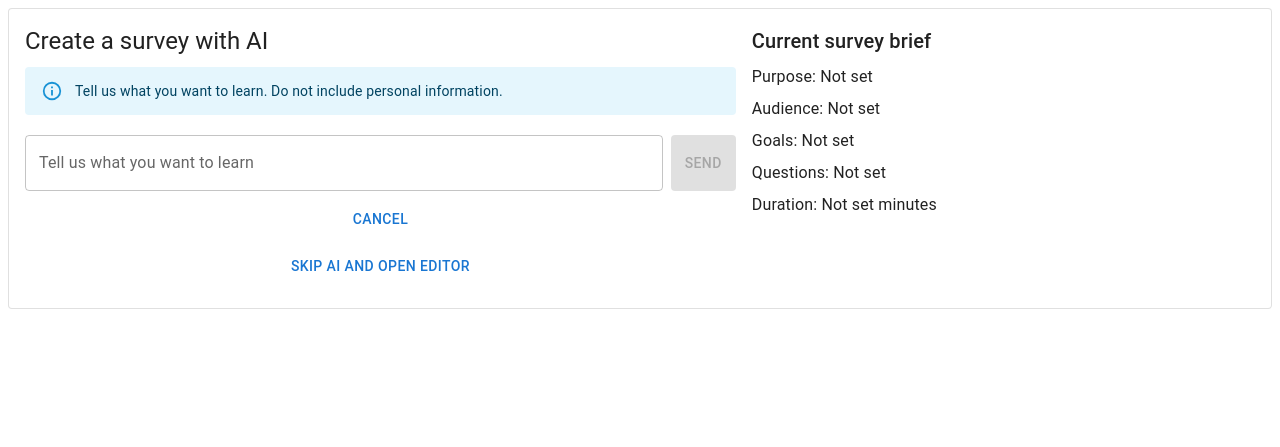
Test case: MuiFormCreationAssistant › shows conversation, quick replies, and the structured brief
Type "Learn more" into the field labelled "Tell us what you want to learn" at (344, 163), box [25,135,663,191]
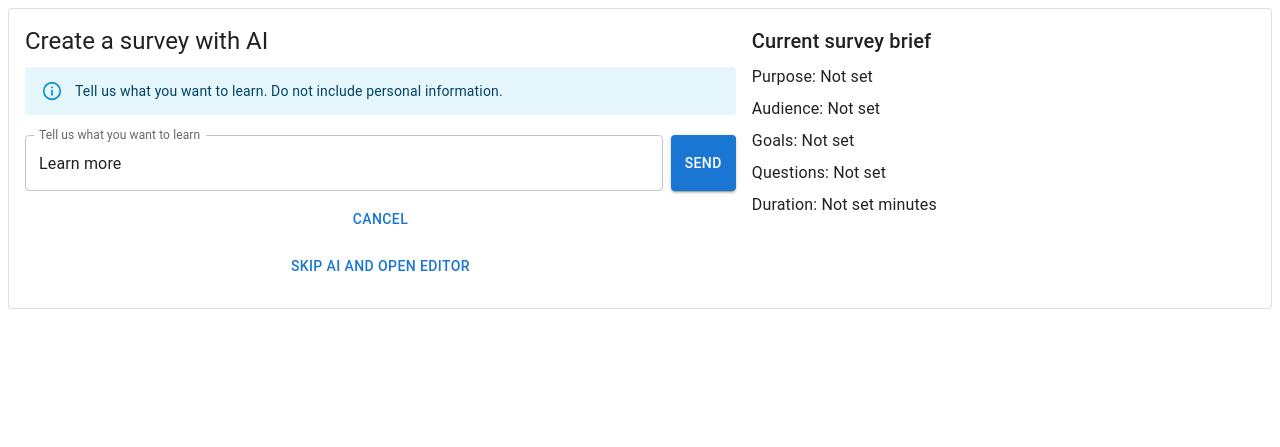
Click the button "Send" at (703, 163), box [671,135,736,191]
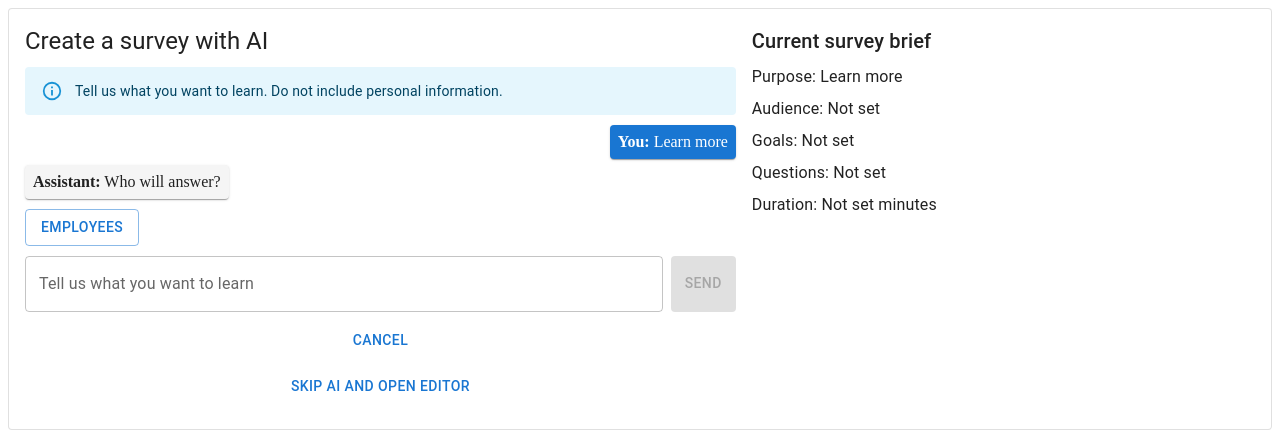
Check: the text "Who will answer?" is shown, box [104,173,221,190]
Check: the button "Employees" is shown, box [25,209,139,246]
Check: the text "Purpose: Learn more" is shown, box [752,67,903,86]
